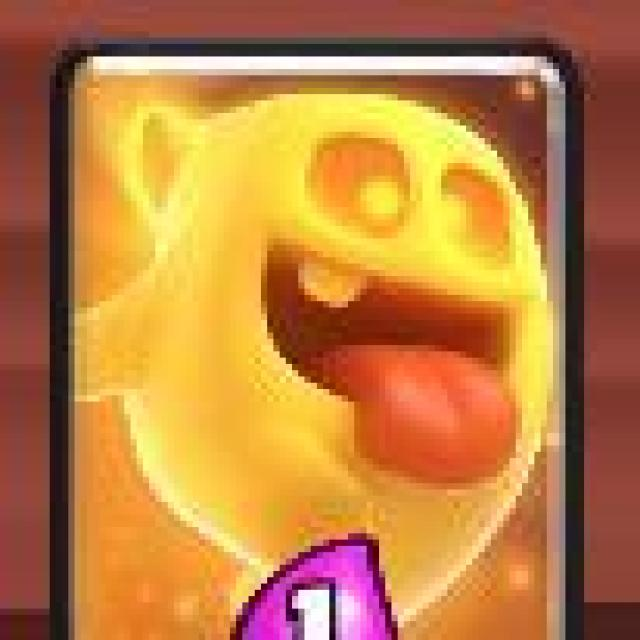Heal_Spirit: (57, 40, 574, 640)
